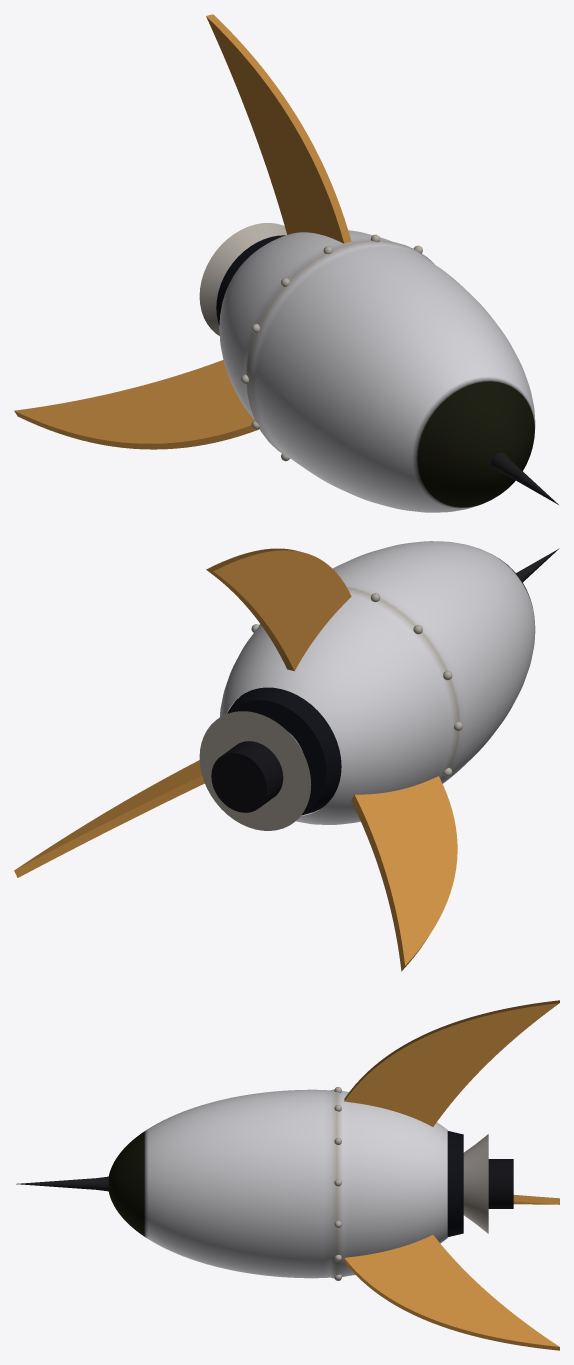
The model's file is rocket-4.obj.
The picture shows the model from 3 angles, top to bottom: view 1: azimuth 30°, elevation 25°; view 2: azimuth 150°, elevation 25°; view 3: azimuth 270°, elevation 25°; orthographic projection. The views are drawn at different scales.
Parts seen in each view (by area): view 1: rocket; view 2: rocket; view 3: rocket.
Boxes of the visible parts, box(x1,y1,x2,y2) form: rocket: box(14, 14, 558, 512); rocket: box(14, 541, 559, 971); rocket: box(16, 1000, 559, 1350).
Bounding box in the file's own units: 120 × 104 × 187.
